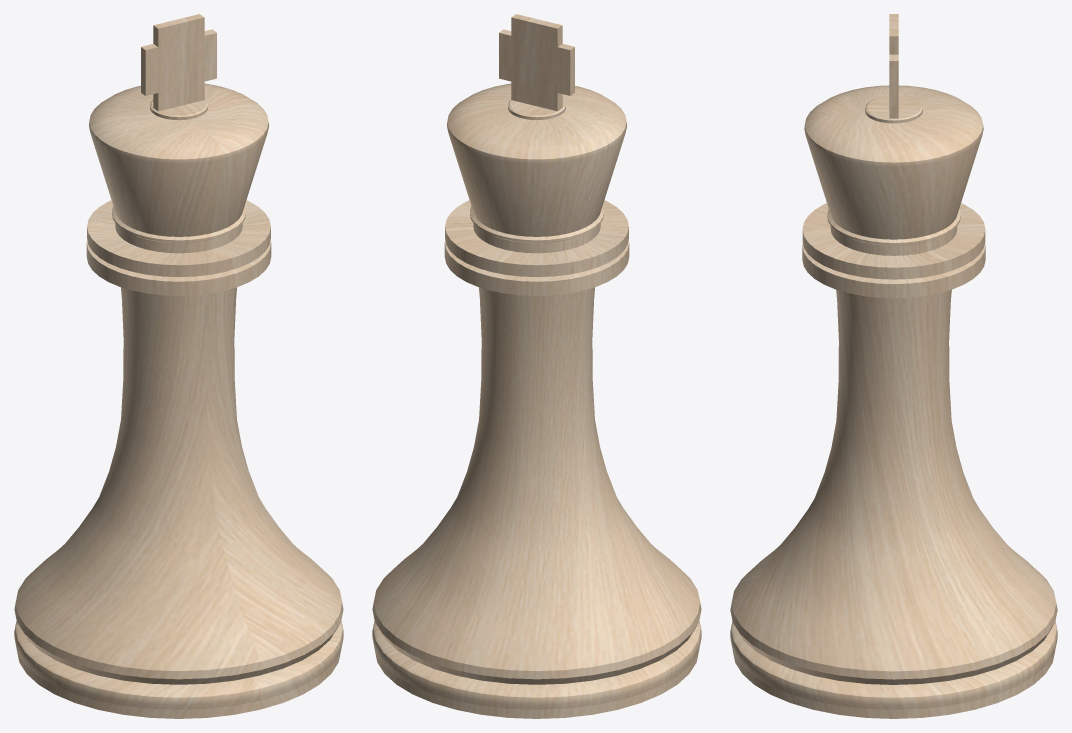
The model's file is king.glb.
3 renders of one model, left to right at view 1: azimuth 30°, elevation 25°; view 2: azimuth 150°, elevation 25°; view 3: azimuth 270°, elevation 25°, orthographic.
Visible parts, largest first — view 1: Object006_02 - Default_0; view 2: Object006_02 - Default_0; view 3: Object006_02 - Default_0.
Part boxes in pixels (left/top/right/bottom): Object006_02 - Default_0: left=14, top=14, right=343, bottom=718; Object006_02 - Default_0: left=372, top=14, right=701, bottom=718; Object006_02 - Default_0: left=730, top=14, right=1057, bottom=718.
Bounding box in the file's own units: 0.0177 × 0.0372 × 0.0177.
1 material, 1 textured.
